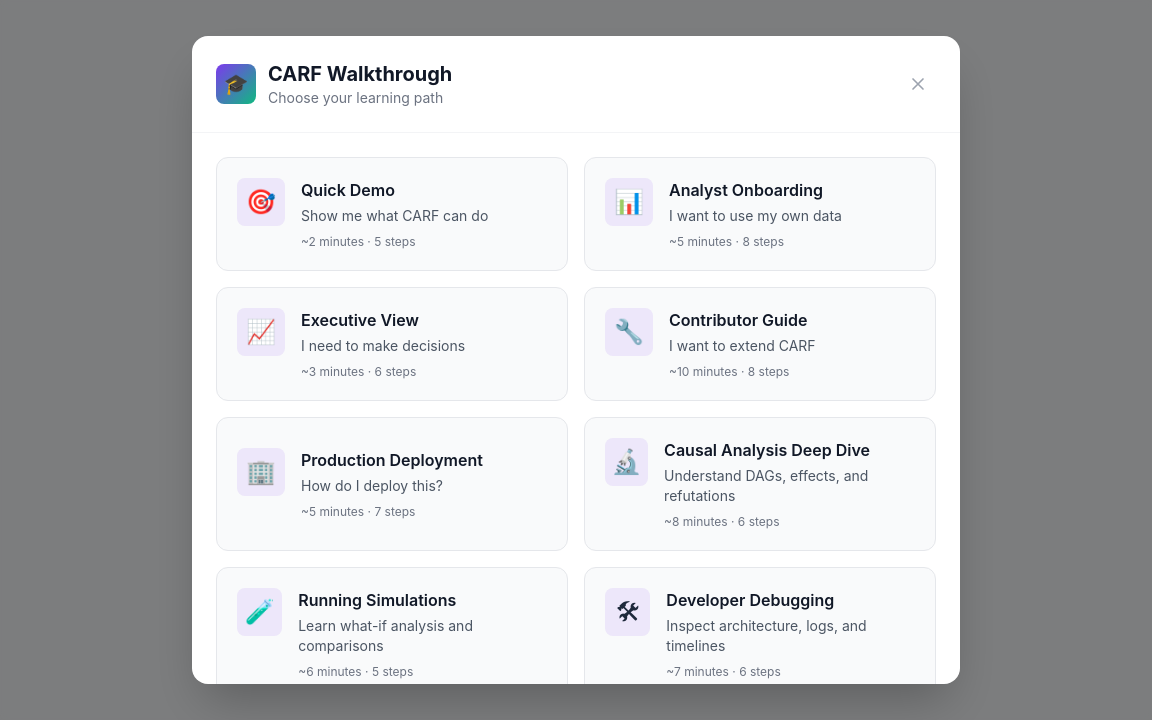
WalkthroughManager › starts Causal Analysis Deep Dive track and shows first step
Step 1. Click the text "Causal Analysis Deep Dive" → (767, 450), box x1=664 y1=440 x2=870 y2=460
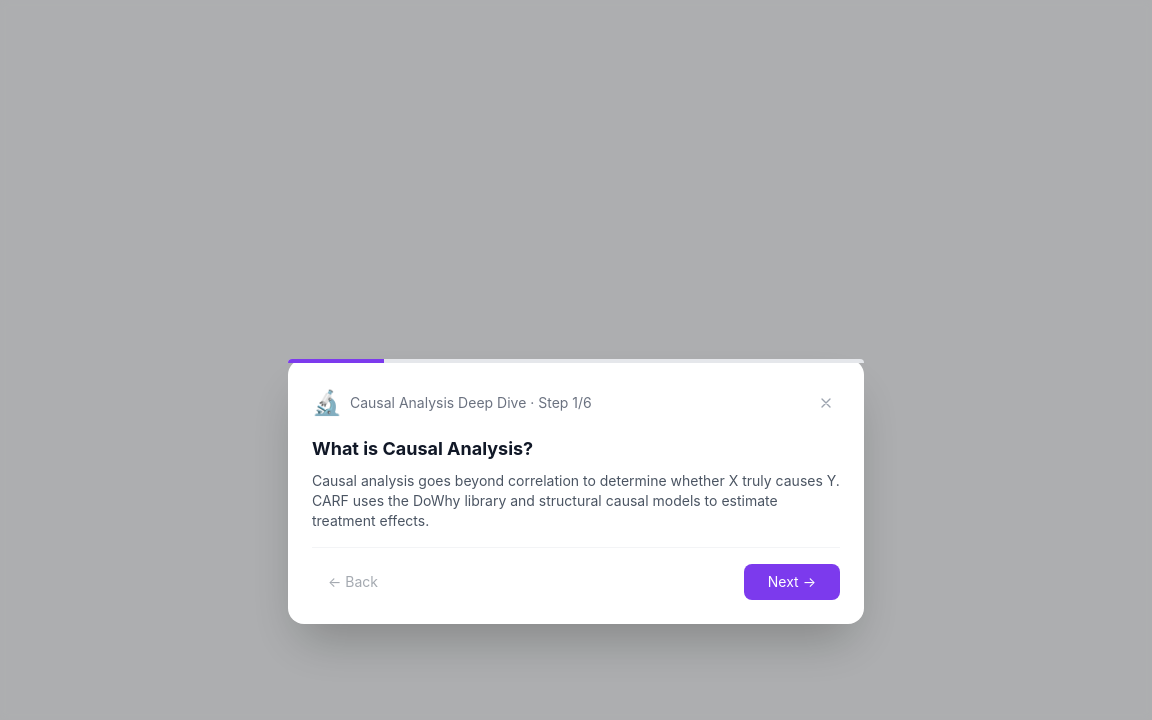
expect the heading "What is Causal Analysis?" is shown: met, box x1=312 y1=438 x2=533 y2=459
expect the text "Causal Analysis Deep Dive · Step 1/6" is shown: met, box x1=350 y1=393 x2=592 y2=413
